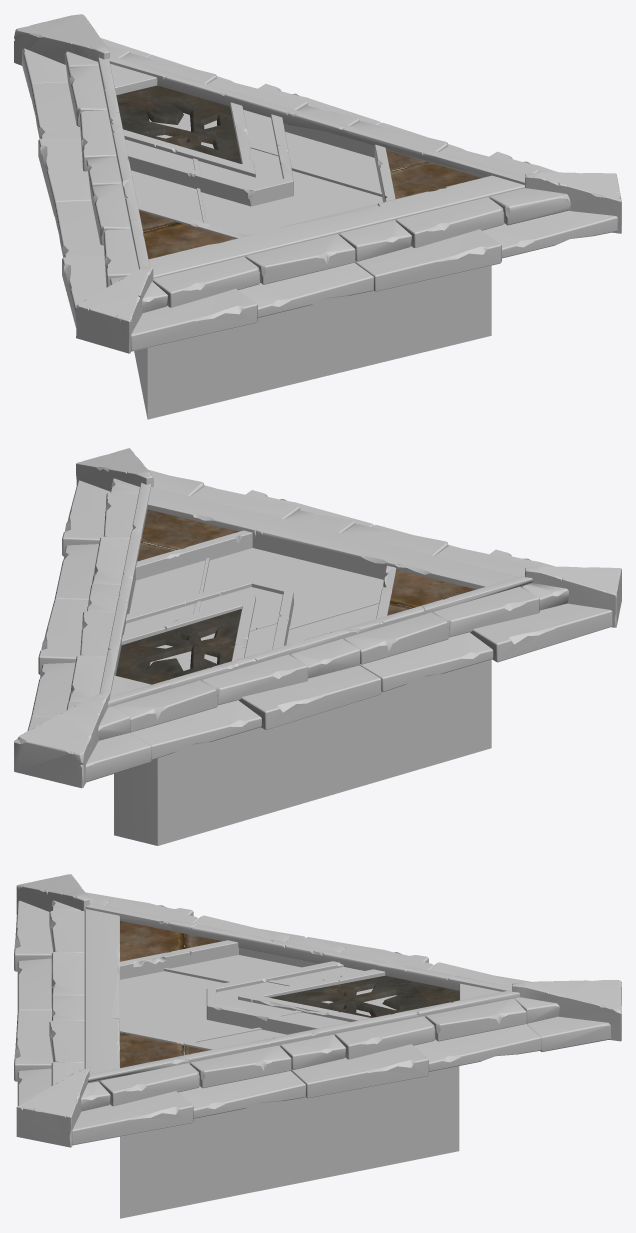
3 views of the same model, one above another, from view 1: azimuth 30°, elevation 25°; view 2: azimuth 150°, elevation 25°; view 3: azimuth 270°, elevation 25° (orthographic). The views are drawn at different scales.
Visible parts, largest first — view 1: SM_Dragons_Arena_Door_01v1_LOD0; view 2: SM_Dragons_Arena_Door_01v1_LOD0; view 3: SM_Dragons_Arena_Door_01v1_LOD0.
Part boxes in pixels (x1,y1,x2,y2): SM_Dragons_Arena_Door_01v1_LOD0: [14, 14, 621, 419]; SM_Dragons_Arena_Door_01v1_LOD0: [14, 448, 621, 845]; SM_Dragons_Arena_Door_01v1_LOD0: [14, 874, 621, 1218].
Bounding box in the file's own units: 8.86 × 2.66 × 9.35.
